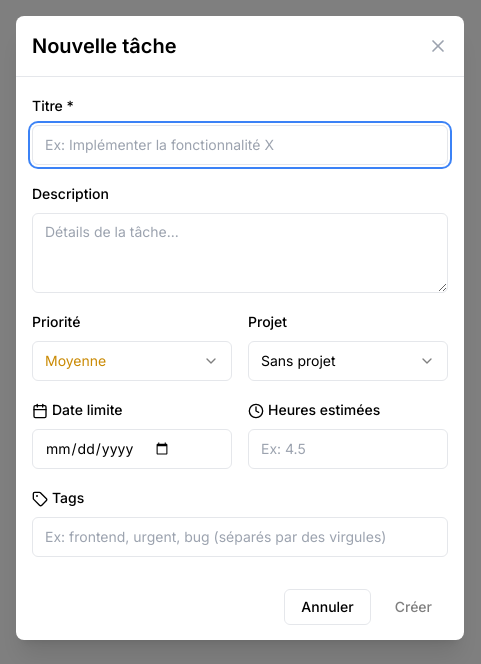
Test: TaskForm › Mode création › devrait valider que le titre est requis
Expected: the button "Créer" is disabled, [379,589,448,625]
Type "Test" into the field labelled "Titre *" at coordinates (240, 145), box [32,125,448,165]
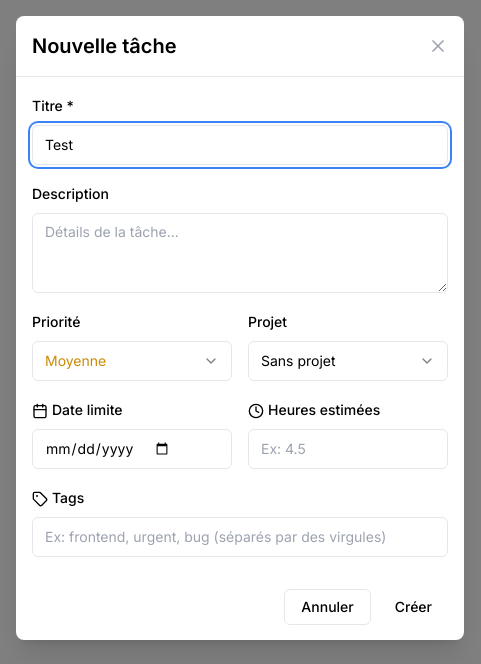
Result: the button "Créer" is enabled at [379,589,448,625]
